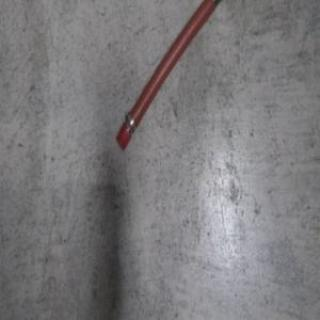Hosetrack_idkeyframe: (114, 0, 223, 153)
